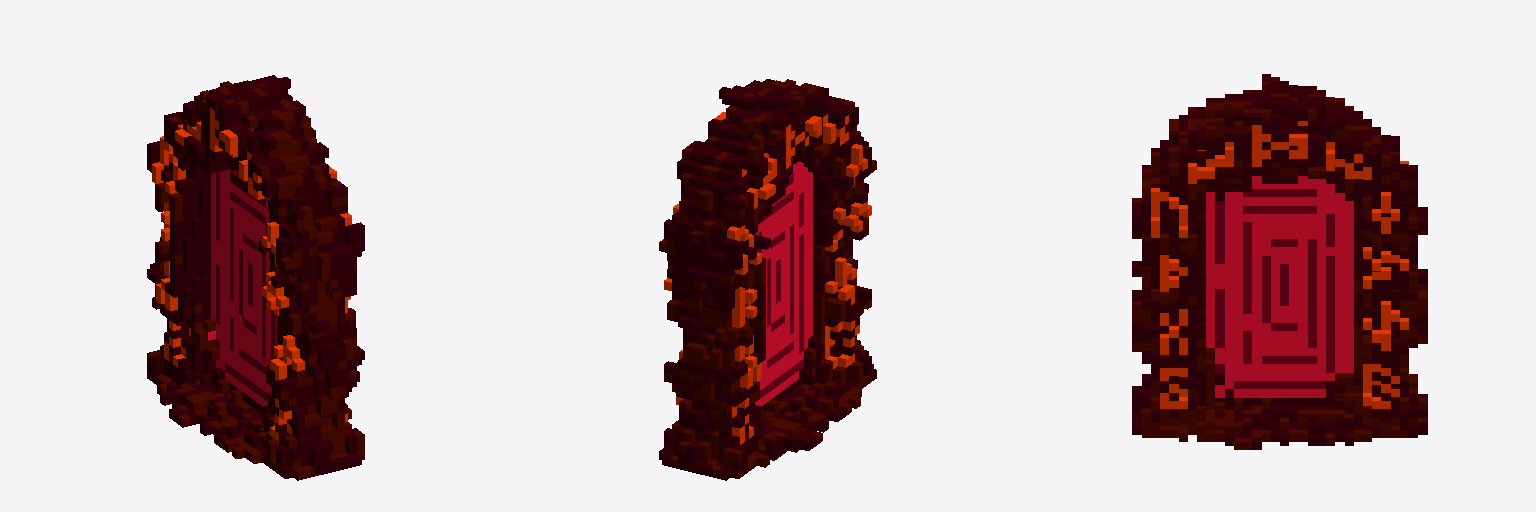
3 renders of one model, left to right at view 1: azimuth 30°, elevation 25°; view 2: azimuth 150°, elevation 25°; view 3: azimuth 270°, elevation 25°, orthographic.
Parts seen in each view (by area): view 1: object 1; view 2: object 1; view 3: object 1.
Boxes of the visible parts, <box> form: object 1: <box>147,75,364,480</box>; object 1: <box>659,79,876,480</box>; object 1: <box>1132,74,1427,449</box>.
Size of the model in its own units: 1.6 by 3.9 by 3.2.
Materials: 1 (1 with a texture image).